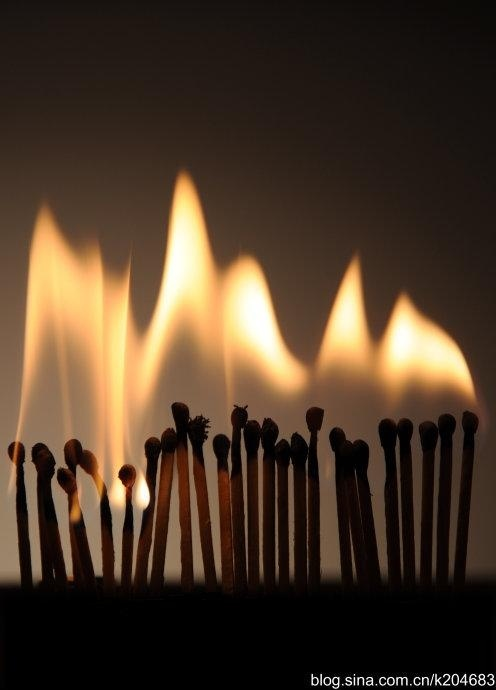fire: (11, 140, 313, 521), (309, 257, 480, 437)
